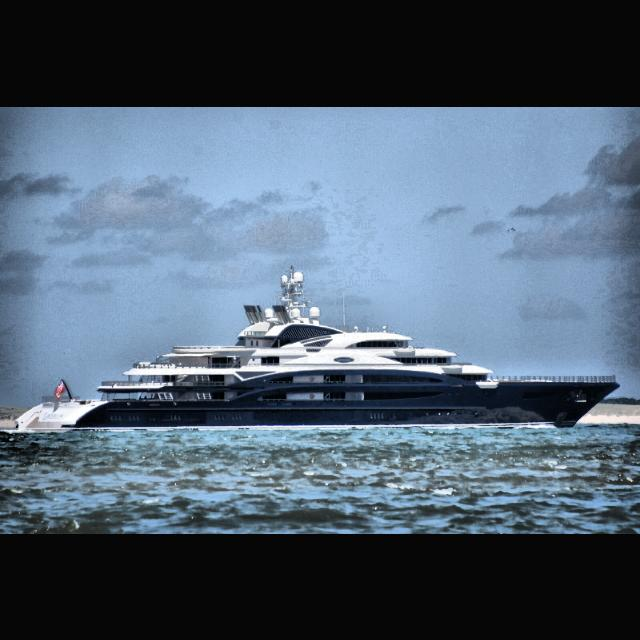yacht: (14, 268, 620, 430)
